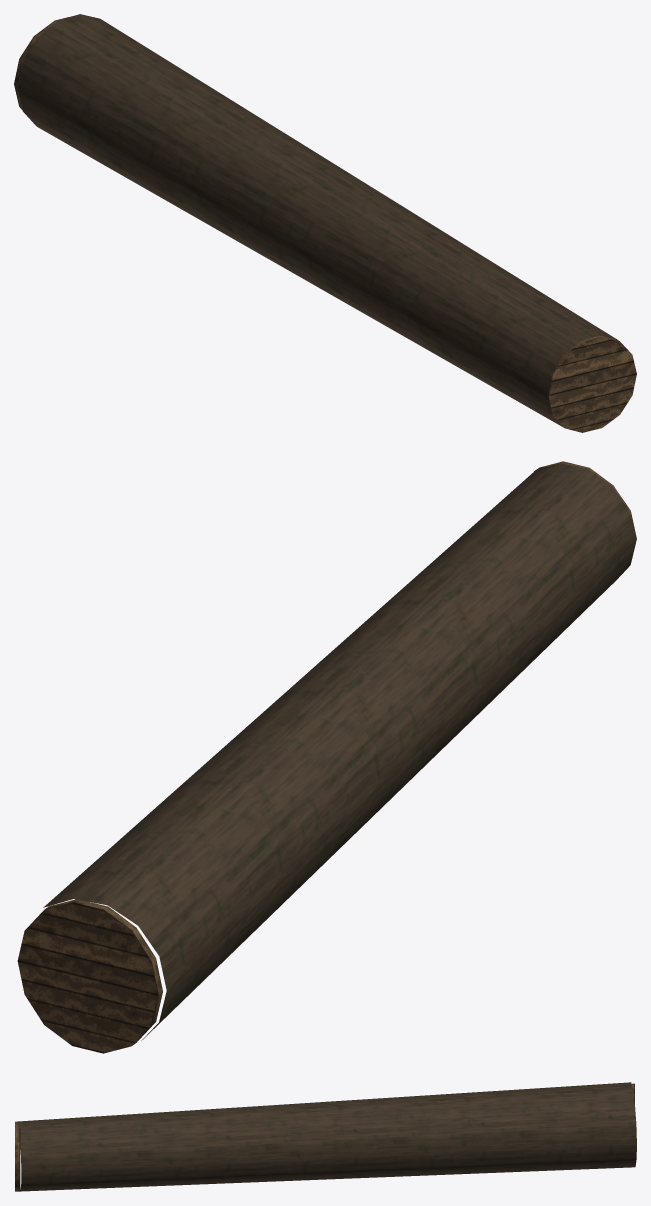
Rendered from nature.log.fallen.glb.
3 views of the same model, one above another, from view 1: azimuth 30°, elevation 25°; view 2: azimuth 150°, elevation 25°; view 3: azimuth 270°, elevation 25° (orthographic). The views are drawn at different scales.
Parts seen in each view (by area): view 1: nature.log.fallen; view 2: nature.log.fallen; view 3: nature.log.fallen.
Part boxes in pixels (x1,y1,x2,y2): nature.log.fallen: (14, 14, 636, 432); nature.log.fallen: (17, 461, 636, 1053); nature.log.fallen: (15, 1082, 636, 1191).
Size of the model in its own units: 1.12 by 0.6629 by 4.86.
Materials: 2 (2 with a texture image).
